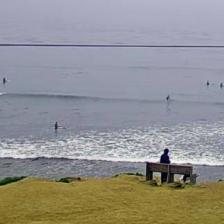surfer: (54, 122, 58, 130), (2, 77, 7, 82), (166, 95, 170, 100), (206, 80, 210, 85), (220, 82, 223, 88)
